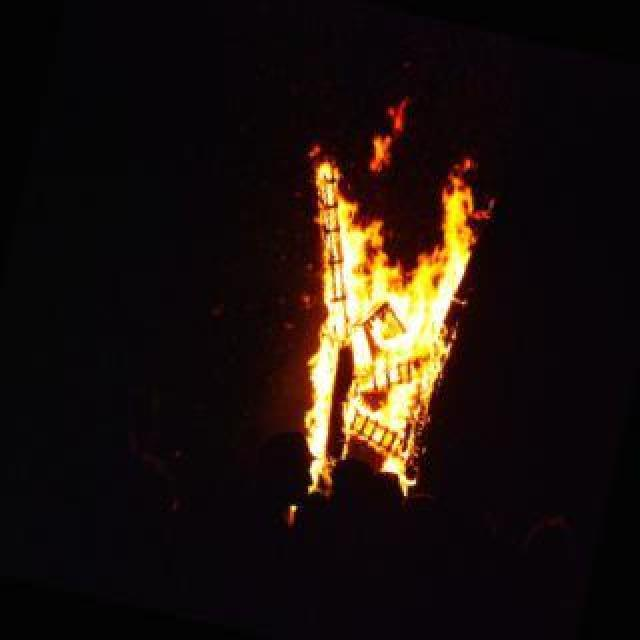Fire: (278, 106, 482, 528)
